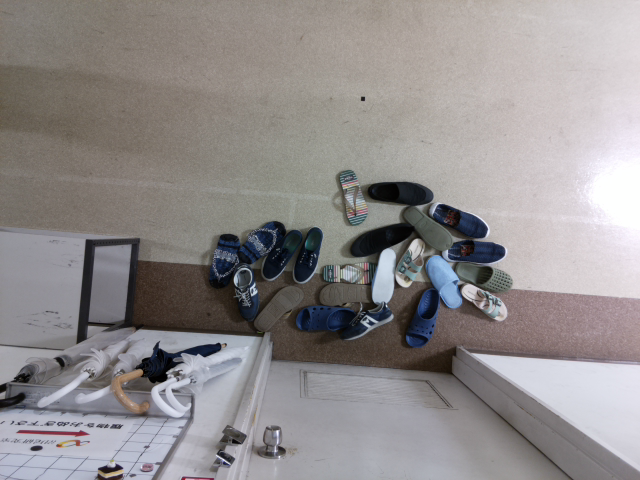Copy of Copy of Copy of Copy of Copy of Copy of Copy of Copy of Copy of Copy of: (423, 201, 492, 242), (424, 249, 465, 312), (400, 285, 440, 348), (396, 206, 451, 250), (340, 299, 395, 340), (460, 280, 509, 322), (294, 302, 360, 333), (394, 236, 428, 291), (438, 239, 509, 265), (456, 263, 513, 293), (318, 281, 376, 310)
Copy of Copy of Copy of Copy of Copy of Copy of Copy of Copy of Copy of shoe: (252, 281, 306, 333)
Copy of Copy of Copy of Copy of Copy of Copy of Copy of Copy of shoe: (319, 259, 377, 285)
Copy of Copy of Copy of Copy of Copy of Copy of Copy of shoe: (349, 218, 416, 259)
Copy of Copy of Copy of Copy of Copy of Copy of shoe: (366, 177, 435, 212)
Copy of Copy of Copy of Copy of Copy of shoe: (336, 168, 370, 227)
Copy of Copy of Copy of Copy of shoe: (290, 225, 325, 284)
Copy of Copy of Copy of shoe: (260, 226, 305, 282)
Copy of Copy of shoe: (237, 216, 285, 265)
Copy of shoe: (230, 265, 263, 326)
shoe: (208, 230, 242, 291)
